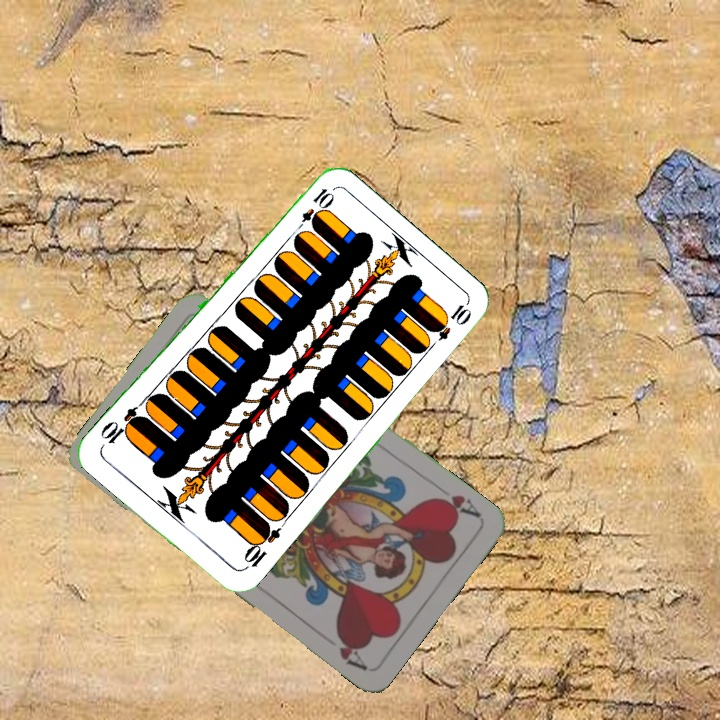E10: (290, 184, 336, 236), (239, 519, 283, 573)
HA: (428, 490, 484, 521)
